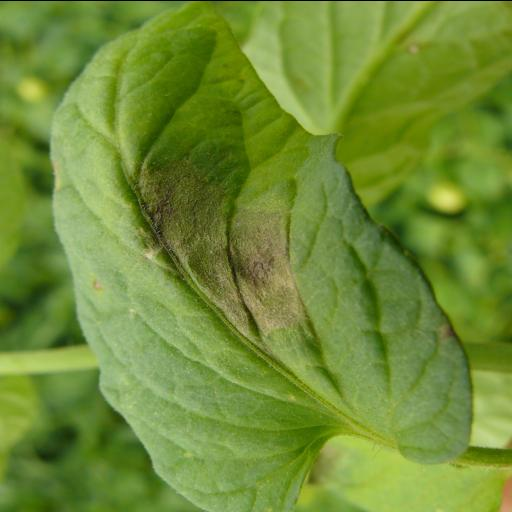disease_tomato: (44, 6, 478, 510)
